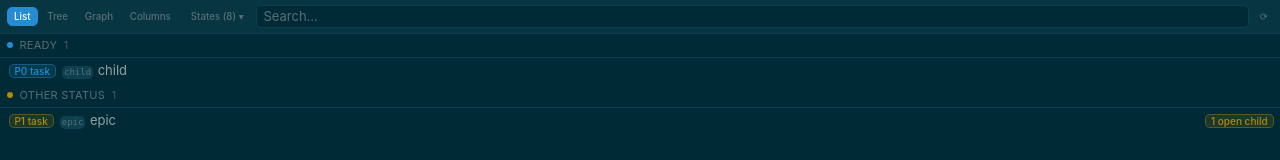
Scenario: TreeView render (T3, FR2/FR4) › preserves tree collapse across a reload — view stays mounted while loading (e7c0)
Click the radio button with aria-label "Tree view".
click(58, 16)  # box [40, 6, 76, 26]
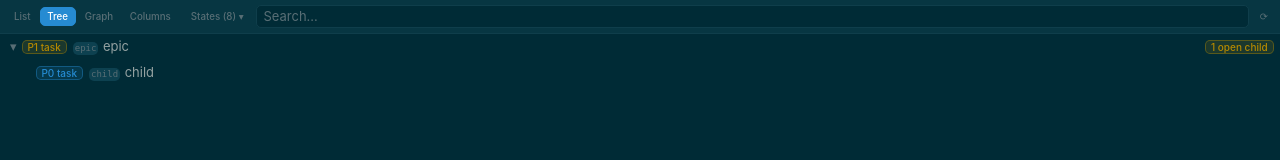
Note: Collapse the epic → its child is hidden.
Click the button named "Collapse".
click(13, 47)  # box [8, 37, 18, 56]
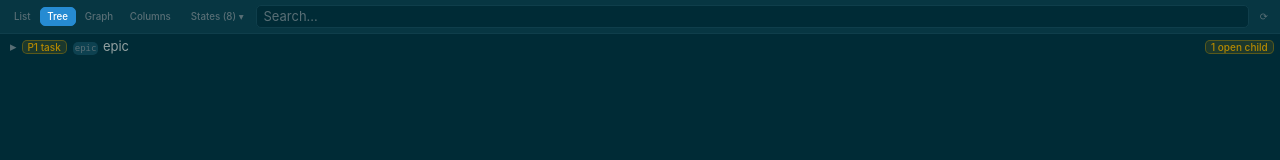
Check: the button named "Expand" is shown, box [8, 37, 18, 56]
